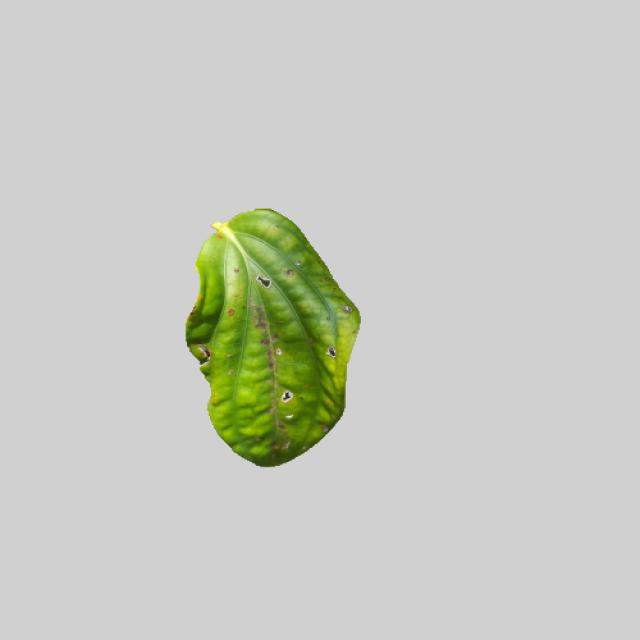yellow-mottle-virus: (176, 203, 364, 466)
